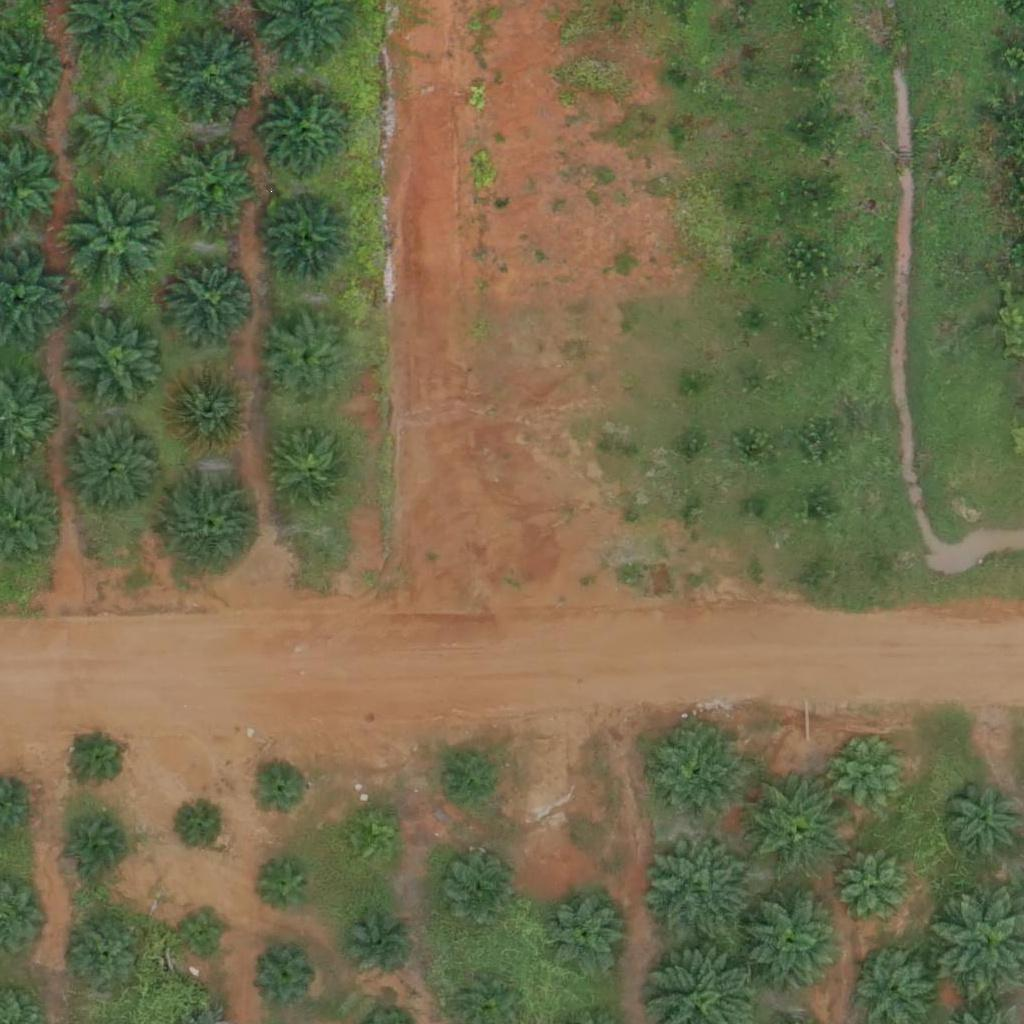Kelapa_Sawit: (647, 836, 760, 950), (69, 192, 169, 293), (67, 313, 167, 414), (65, 417, 165, 518), (164, 471, 264, 572), (648, 723, 748, 824), (746, 774, 846, 875), (161, 28, 261, 128), (746, 894, 846, 994), (171, 144, 259, 232), (165, 254, 253, 342), (165, 365, 253, 453), (270, 428, 358, 516), (831, 732, 918, 820), (264, 94, 351, 182), (265, 191, 352, 279), (264, 317, 351, 405), (76, 94, 151, 170), (438, 856, 513, 932), (547, 897, 622, 973), (70, 922, 145, 997), (836, 849, 911, 924), (341, 912, 416, 987), (64, 726, 127, 789), (65, 815, 128, 878), (339, 810, 402, 873), (431, 748, 494, 811), (249, 757, 311, 820), (253, 857, 315, 920), (253, 944, 315, 1007), (179, 801, 229, 852), (178, 907, 228, 958)
